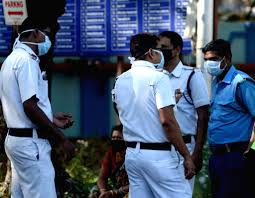mask: (19, 17, 54, 54), (132, 36, 166, 70), (200, 42, 228, 80), (158, 32, 177, 62)
